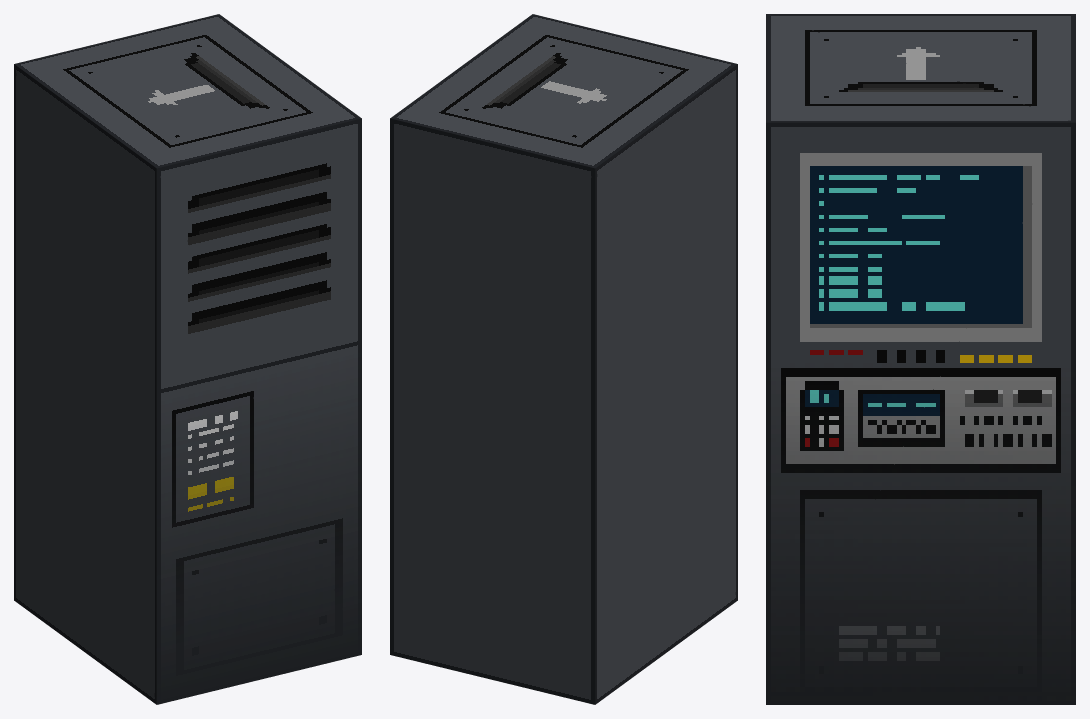
File: ServerBlock.gltf
3 views of the same model, side by side, from view 1: azimuth 30°, elevation 25°; view 2: azimuth 150°, elevation 25°; view 3: azimuth 270°, elevation 25° (orthographic). The views are drawn at different scales.
Visible parts, largest first — view 1: Floor; view 2: Floor; view 3: Floor.
Boxes of the visible parts, x1,y1,x2,y2 form: Floor: [14, 14, 361, 704]; Floor: [390, 14, 737, 704]; Floor: [766, 14, 1075, 704].
Bounding box in the file's own units: 0.8333 × 2.08 × 1.
Materials: 1 (1 with a texture image).
